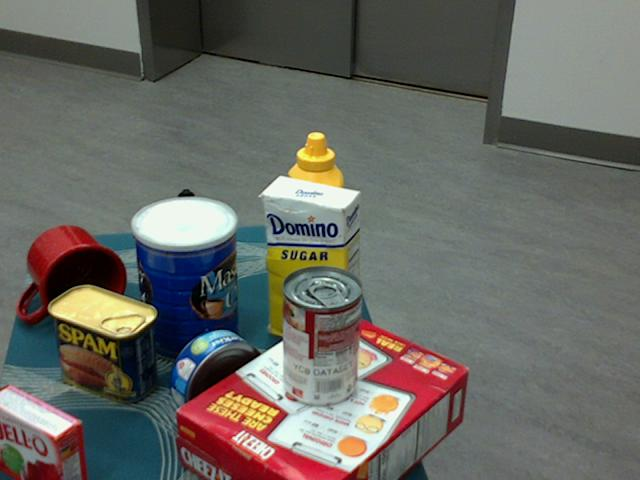cracker_box: (176, 309, 469, 479)
gelatin_box: (0, 381, 86, 479)
large_marker: (178, 189, 197, 286)
master_chef_can: (130, 197, 237, 364)
mug: (20, 225, 126, 324)
mustard_bottle: (285, 132, 341, 308)
potted_meat_can: (47, 283, 156, 401)
sugar_box: (262, 175, 359, 356)
tomato_soup_can: (280, 267, 361, 408)
tuna_fish_can: (169, 329, 264, 427)
